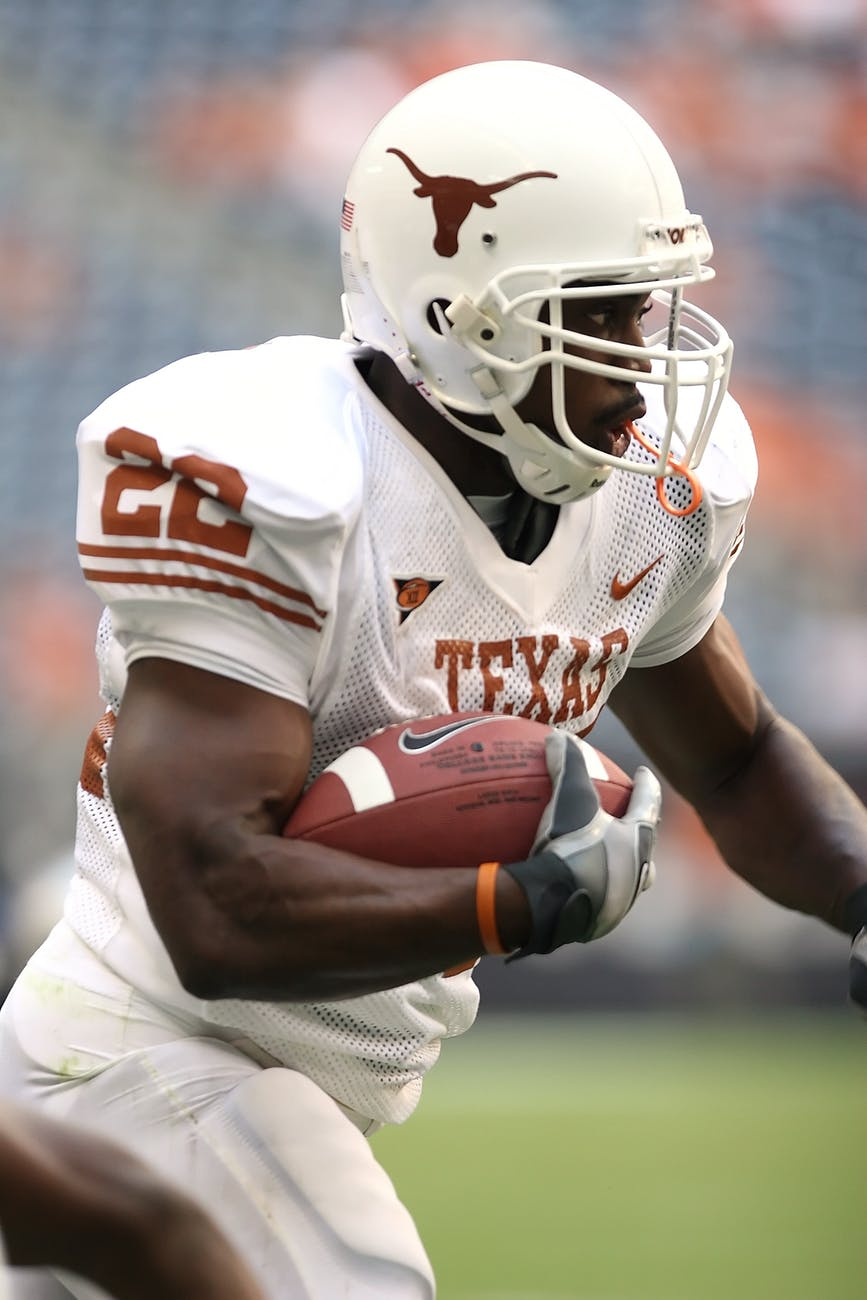helmet: (338, 79, 686, 397)
